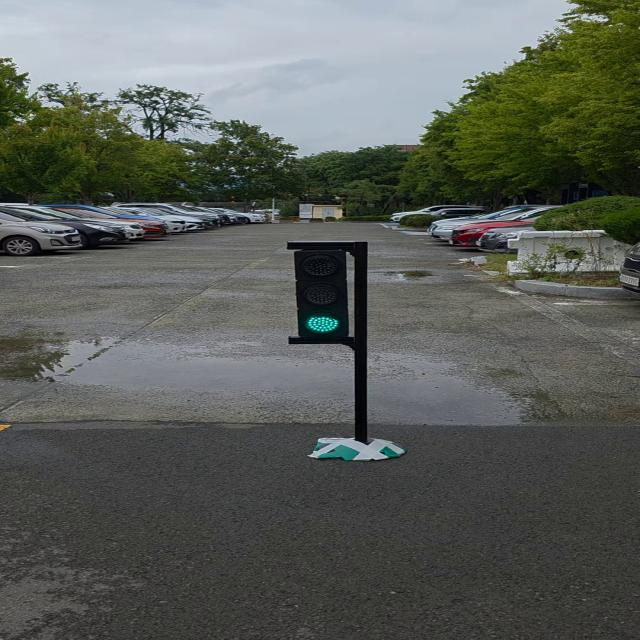green: (296, 240, 363, 342)
